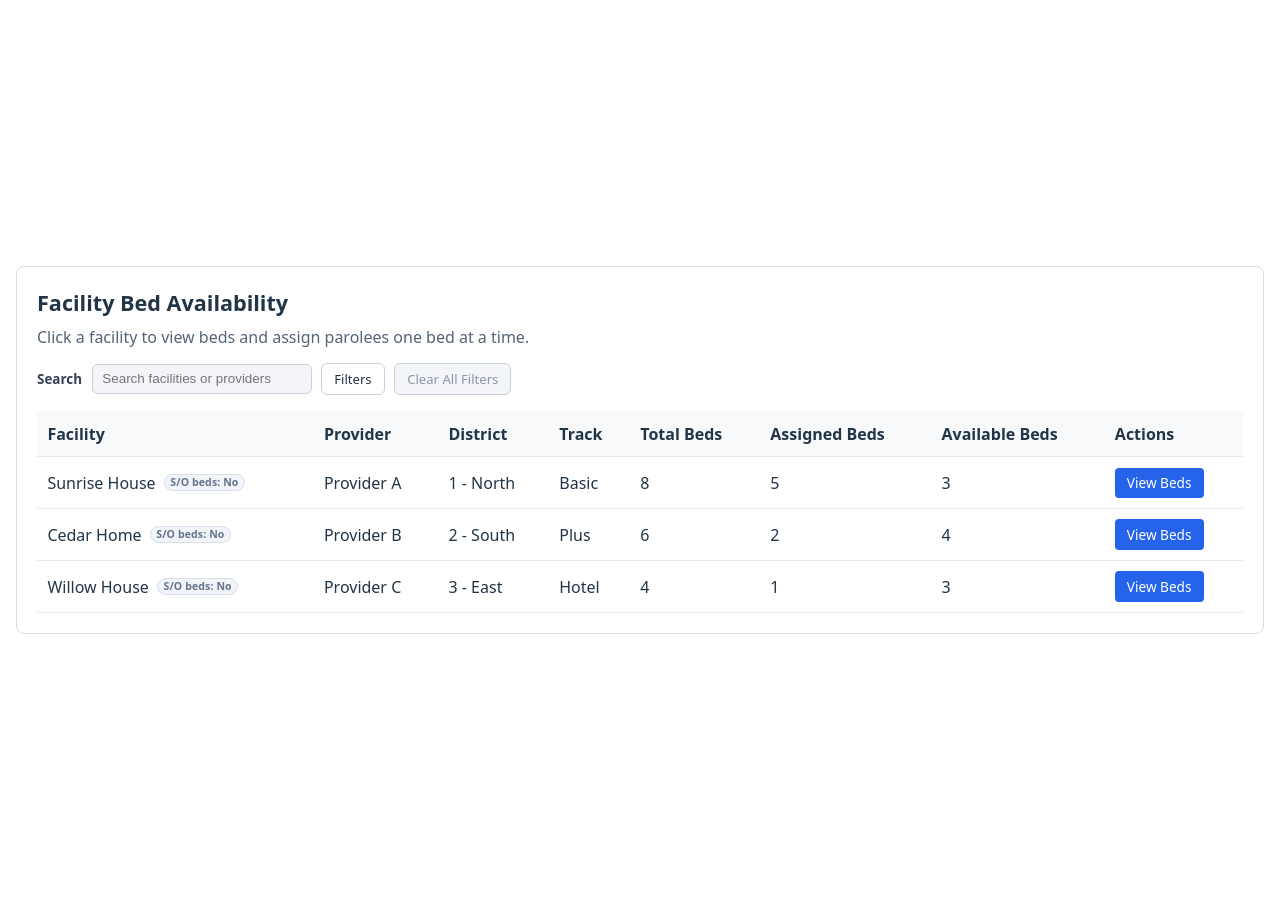
Test: MainDash › filters facilities by gender target selections
This screenshot has width=1280, height=900.
Check: the text "Sunrise House" is shown, box [47,471,156,495]
Check: the text "Cedar Home" is shown, box [47,523,142,547]
Click the button "Filters".
click(353, 379)  # box [321,362,385,395]
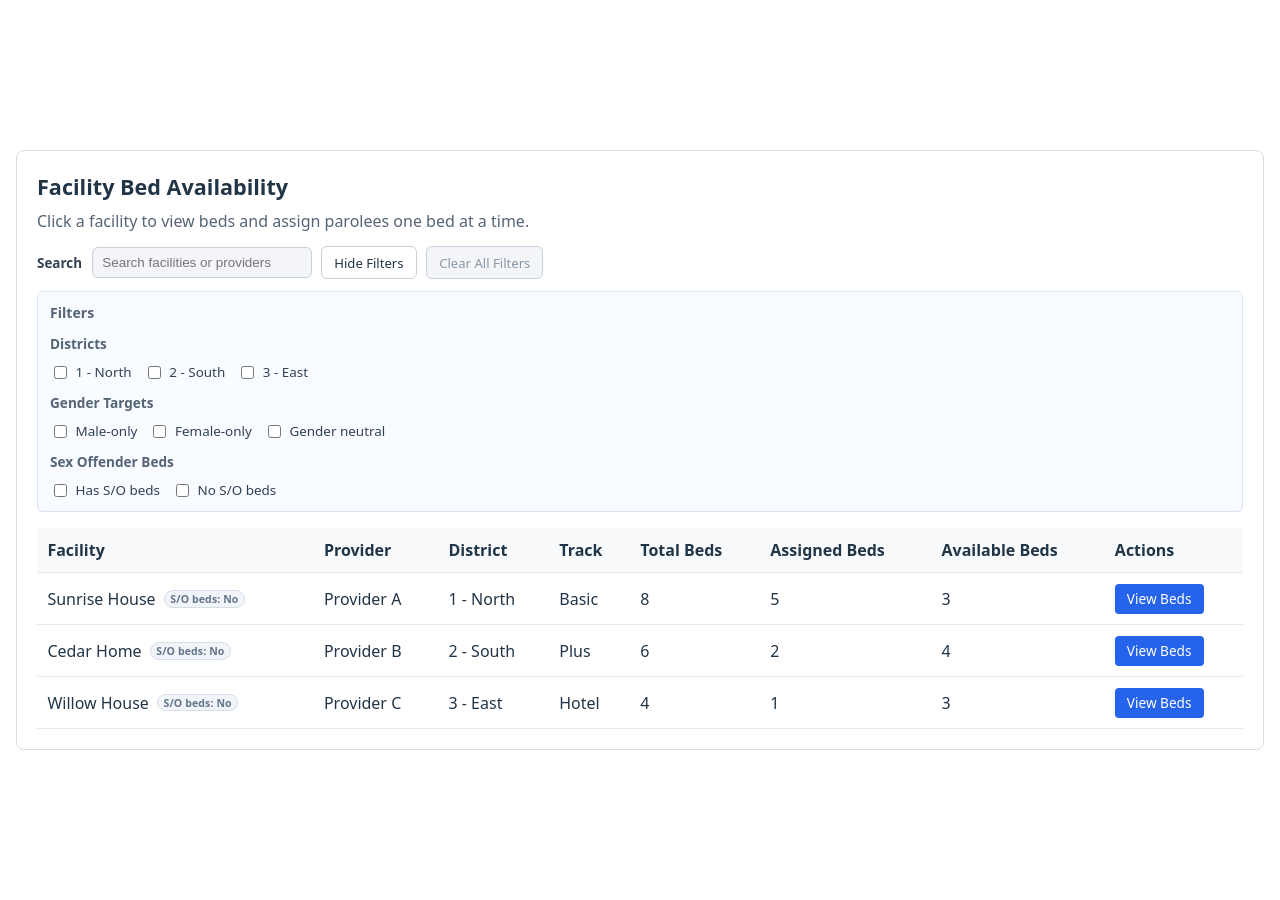
Check: the text "Gender Targets" is shown, box [50,393,154,412]
Check: the checkbox labelled "Male-only" is not checked
Check: the checkbox labelled "Gender neutral" is not checked, box [268,425,281,438]
Click the checkbox labelled "Male-only".
click(60, 431)  # box [54,425,67,438]
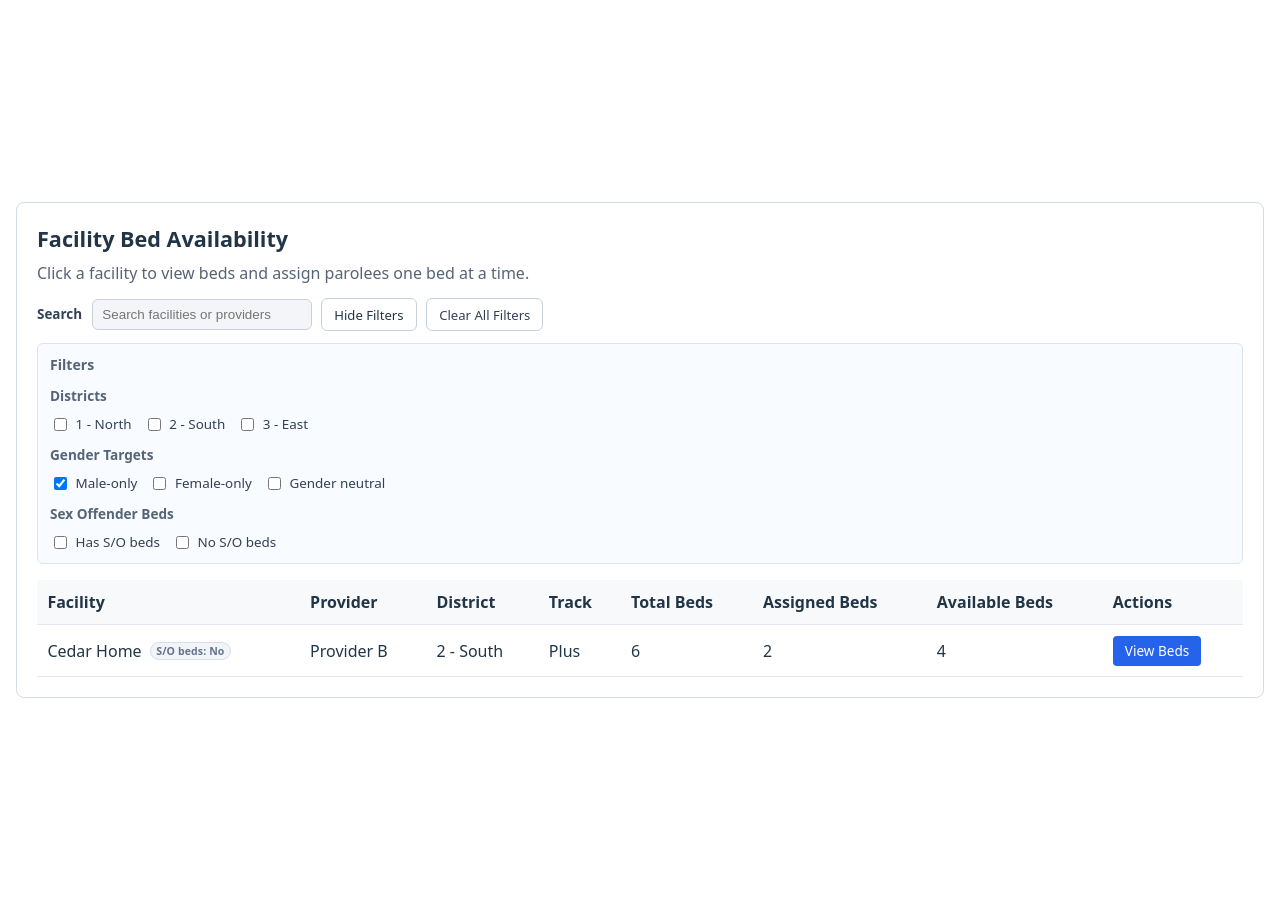
Check: the checkbox labelled "Male-only" is checked, box [54,477,67,490]
Check: the checkbox labelled "Gender neutral" is not checked
Check: the text "Sunrise House" is gone
Click the checkbox labelled "Gender neutral".
click(274, 483)  # box [268,477,281,490]
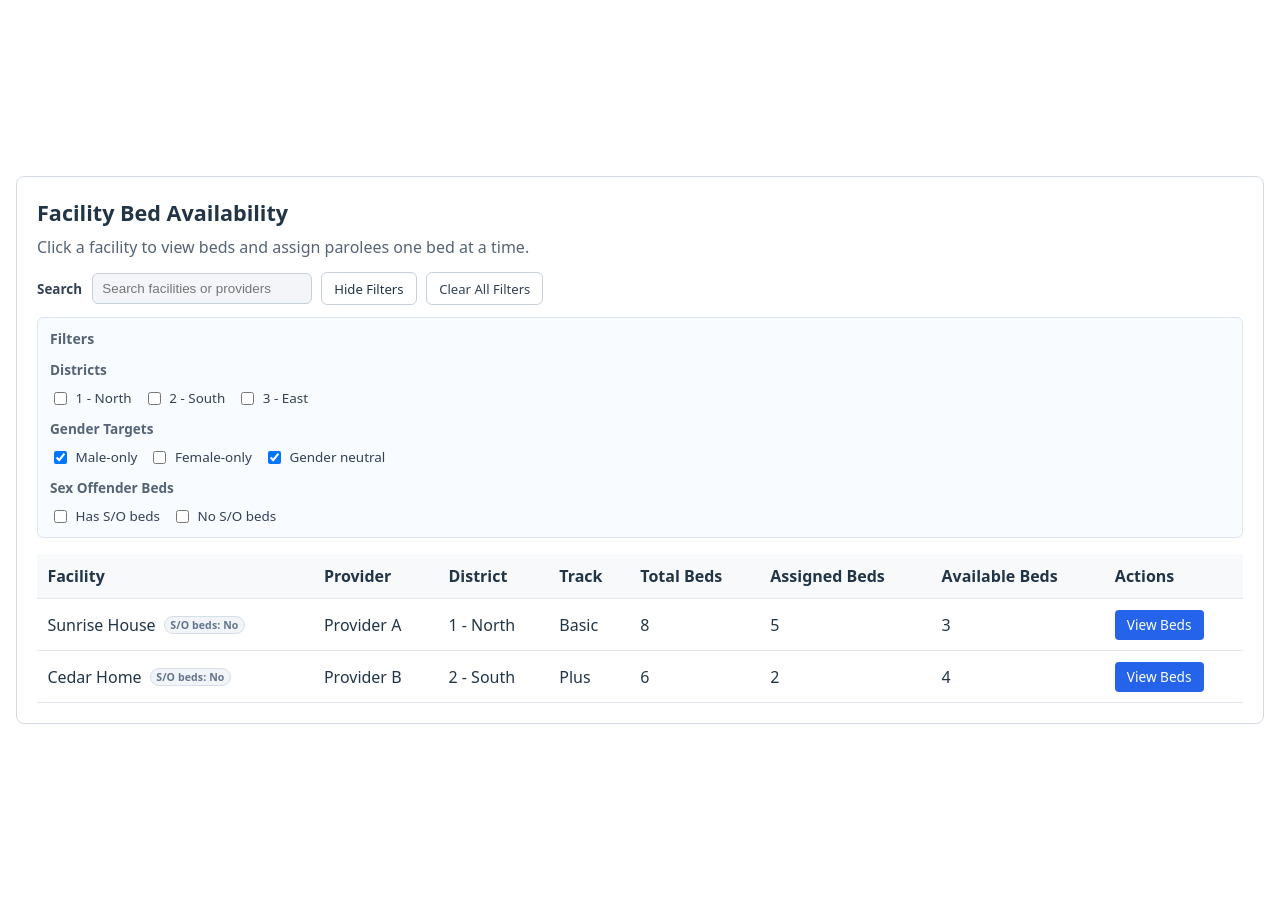
Check: the checkbox labelled "Male-only" is checked, box [54,451,67,464]
Check: the checkbox labelled "Gender neutral" is checked, box [268,451,281,464]
Check: the text "Sunrise House" is shown, box [47,613,156,637]
